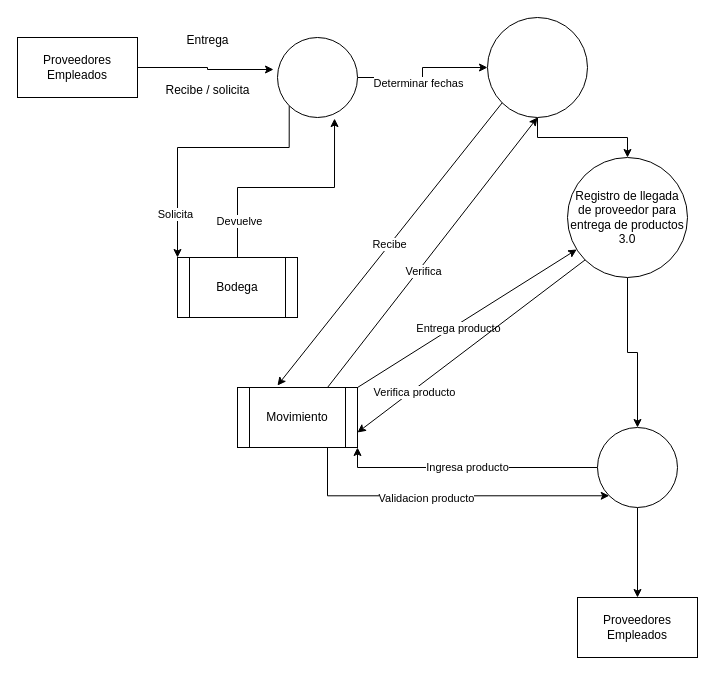
Image size: 715x675. Some labels were removed from this diagram. Each missing label, with the centre of its shape:
"Informacion Inventario 1.0" belongs at (317,77).
"Itenerario Fechas de compra 2.0" belongs at (537,67).
"Registro mercancia o devolucion 4.0" belongs at (637,467).
